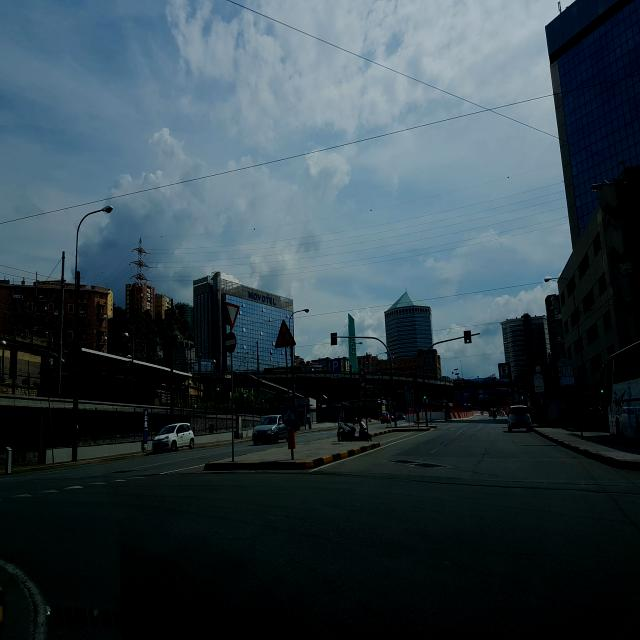bike: (337, 419, 373, 442)
car: (152, 422, 195, 453), (252, 414, 288, 444), (507, 405, 532, 432), (379, 412, 392, 425), (330, 332, 338, 346), (488, 407, 498, 418)
